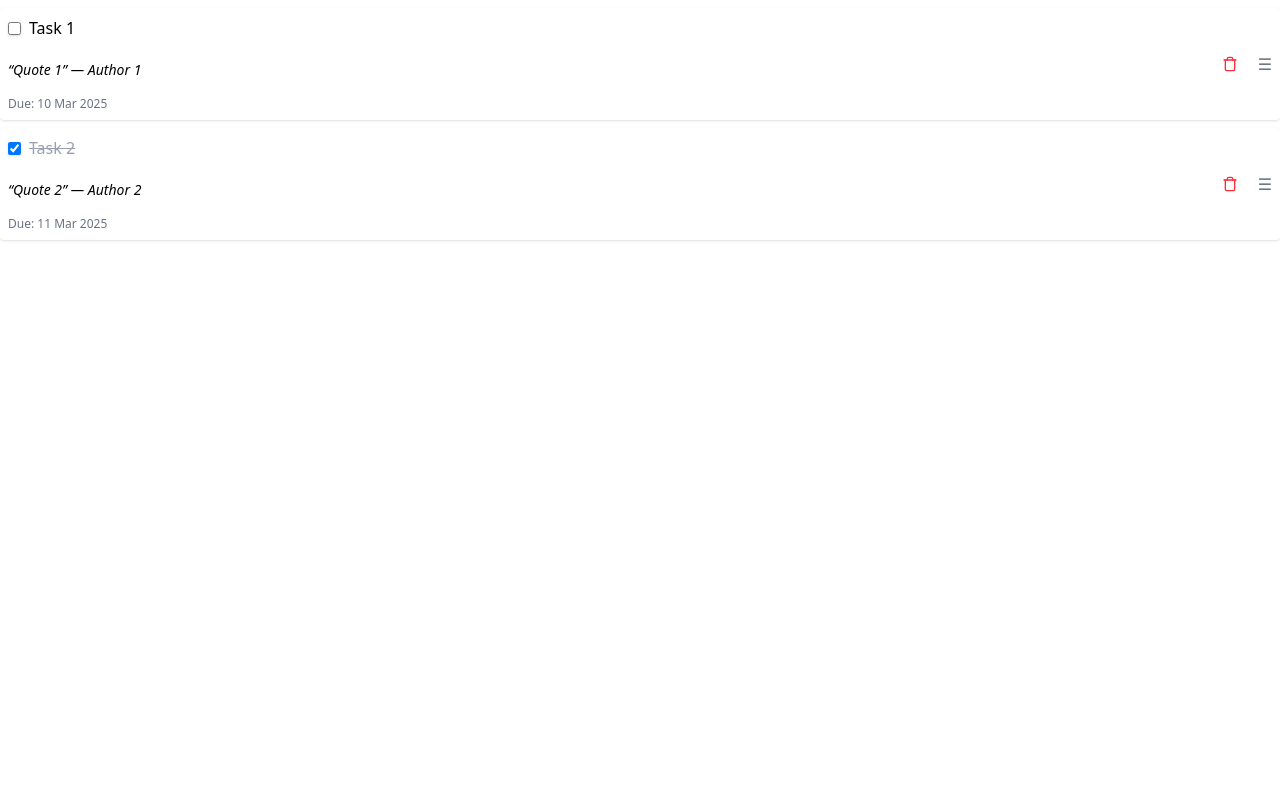
Test case: TaskList component › deletes tasks correctly
Check: the button with test id "task-2-delete" is shown, box 1214,136 -> 1246,232
Click the button with test id "task-1-delete". click: coordinates (1230, 64)
box: 1214,16 -> 1246,112
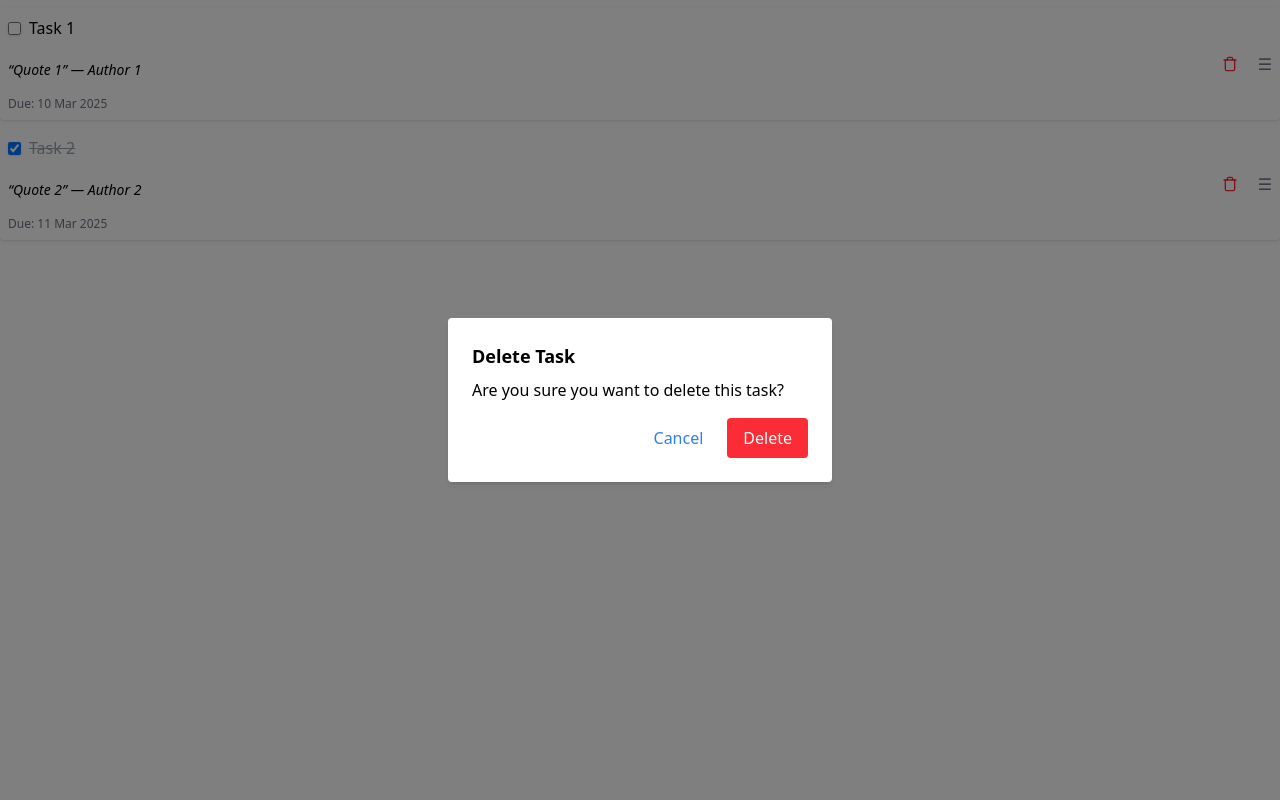
Check: the button with test id "confirm-modal-confirm-button" is shown
Click the button with test id "confirm-modal-confirm-button". click: coordinates (768, 438)
box: 727,418 -> 808,458
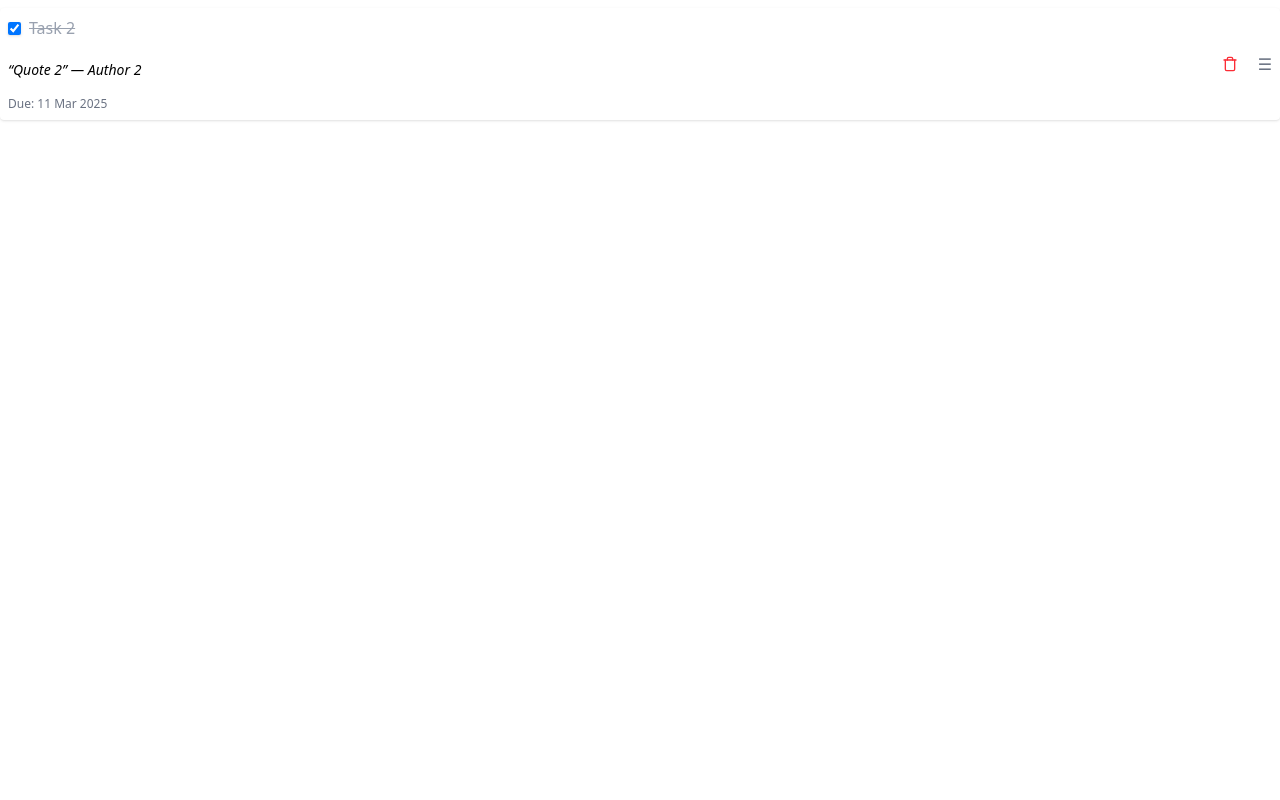
Check: the button with test id "task-1-delete" is gone
